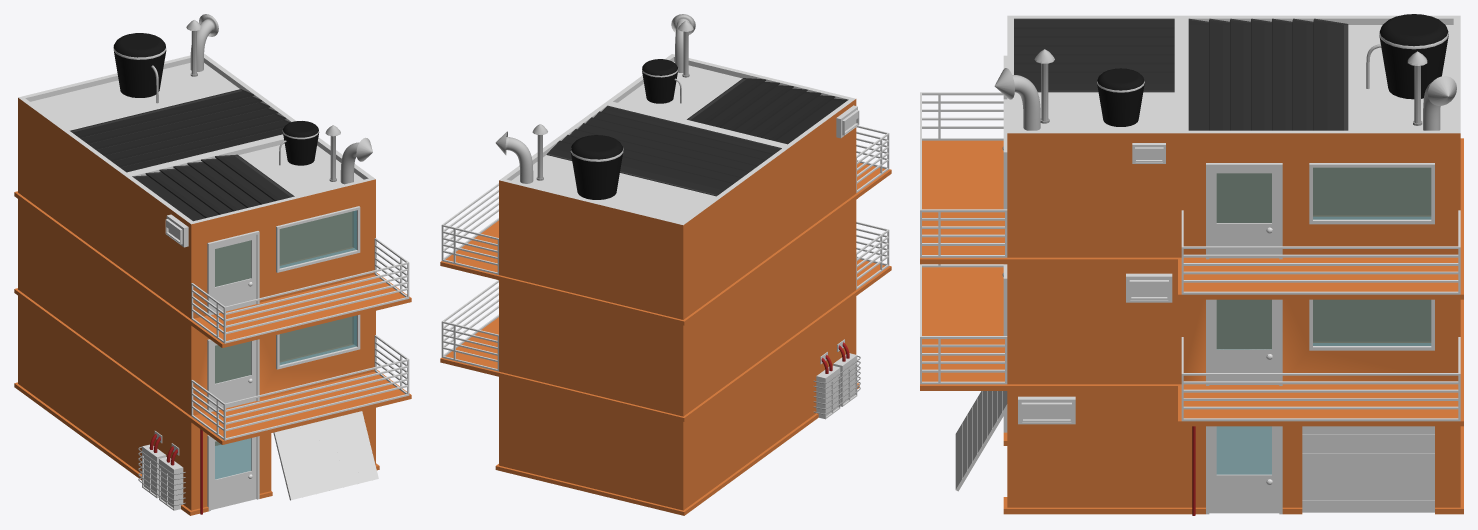
Rendered from House4.fbx.
3 renders of one model, left to right at view 1: azimuth 30°, elevation 25°; view 2: azimuth 150°, elevation 25°; view 3: azimuth 270°, elevation 25°, orthographic. The views are drawn at different scales.
Visible parts, largest first — view 1: polySurface190, polySurface86, polySurface91, polySurface235, polySurface213, polySurface247, polySurface189, polySurface98, polySurface187, polySurface174, polySurface206, polySurface194 (+33 smaller); view 2: polySurface86, polySurface190, polySurface91, polySurface98, polySurface143, polySurface109, polySurface202, polySurface195, polySurface178, polySurface64, polySurface198, polySurface199 (+9 smaller); view 3: polySurface190, polySurface86, polySurface91, polySurface131, polySurface109, polySurface143, polySurface247, polySurface213, polySurface85, polySurface83, polySurface98, polySurface70 (+38 smaller).
Part boxes in pixels (box(x1,y1,x2,y2)): polySurface190: box(121, 137, 379, 515); polySurface86: box(14, 53, 296, 464); polySurface91: box(70, 89, 290, 172); polySurface235: box(273, 411, 378, 500); polySurface213: box(189, 370, 411, 444); polySurface247: box(189, 274, 411, 347); polySurface189: box(279, 210, 356, 268); polySurface98: box(113, 33, 166, 97); polySurface187: box(279, 315, 356, 364); polySurface174: box(211, 437, 256, 509); polySurface206: box(211, 235, 256, 314); polySurface194: box(211, 340, 256, 411); polySurface86: box(495, 102, 792, 515); polySurface190: box(606, 54, 859, 437); polySurface91: box(546, 105, 781, 196); polySurface98: box(570, 135, 623, 199); polySurface143: box(440, 220, 498, 279); polySurface109: box(440, 317, 498, 376); polySurface202: box(642, 59, 678, 103); polySurface195: box(687, 78, 765, 124); polySurface178: box(816, 365, 840, 419); polySurface64: box(495, 131, 533, 183); polySurface198: box(748, 92, 821, 137); polySurface199: box(734, 88, 807, 134); polySurface190: box(1003, 15, 1184, 514); polySurface86: box(1178, 15, 1463, 514); polySurface91: box(1188, 18, 1348, 130); polySurface131: box(1302, 426, 1434, 512); polySurface109: box(1178, 384, 1463, 426); polySurface143: box(1178, 257, 1463, 299); polySurface247: box(920, 140, 1007, 264); polySurface213: box(920, 267, 1007, 390); polySurface85: box(1313, 167, 1431, 219); polySurface83: box(1313, 299, 1431, 345); polySurface98: box(1379, 14, 1448, 99); polySurface70: box(1209, 426, 1279, 513).
Bounding box in the file's own units: 11.03 × 14.09 × 15.6.
